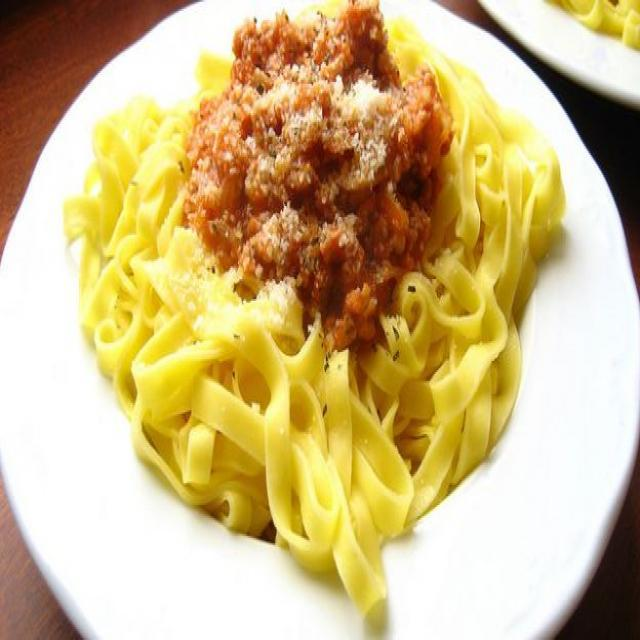Pasta al ragu: (95, 2, 583, 551)
